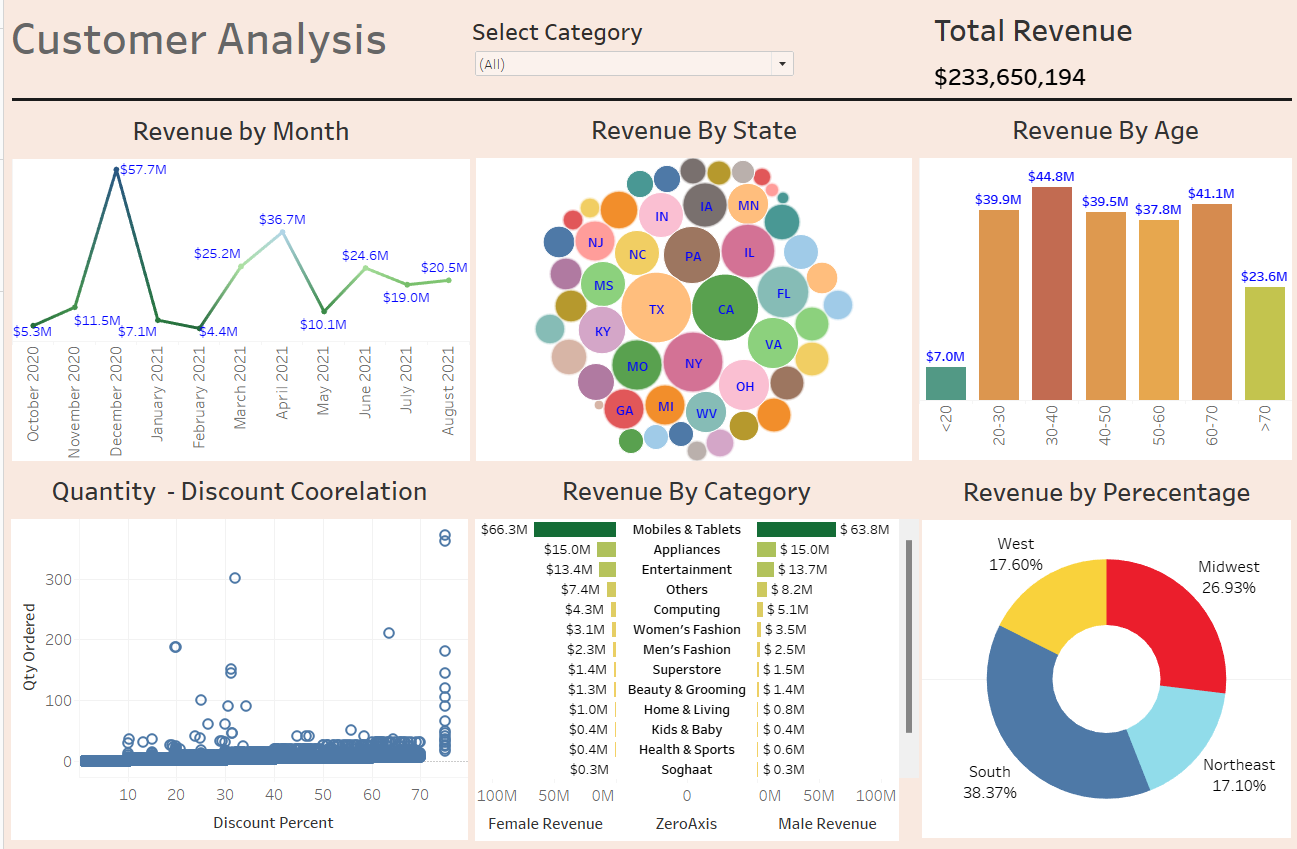

The page's visual inventory and layout, read from the dashboard file:
{"tool":"tableau","page":{"name":"Dashboard 1","canvas":[1300,900],"ordinal":0},"visuals":[{"type":"worksheet","title":"Total Revenue","mark":"Automatic","box":[926,5,266,90]},{"type":"text","box":[3,8,411,60]},{"type":"filter","title":"Revenue By Category","param":"[federated.1mt8xgd12s39361gu934x0xnmukh].[none:category:nk]","box":[468,16,325,64]},{"type":"blank","box":[8,99,1280,3]},{"type":"worksheet","title":"Revenue By State","mark":"Circle","box":[472,109,436,353]},{"type":"worksheet","title":"Revenue By Age","mark":"Automatic","rows":["total"],"cols":["Age (bin)"],"box":[915,109,373,352]},{"type":"worksheet","title":"Revenue by Month","mark":"Automatic","rows":["total"],"cols":["month"],"box":[8,110,458,352]},{"type":"worksheet","title":"Quantity  - Discount Coorelation","mark":"Automatic","rows":["qty_ordered"],"cols":["Discount_Percent"],"box":[7,470,457,371]},{"type":"worksheet","title":"Revenue By Category","mark":"Automatic","rows":["category"],"cols":["Calculation_1661828305563856897","Calculation_1661828305547468800","Calculation_1661828305564217346"],"box":[471,470,444,372]},{"type":"worksheet","title":"Revenue by Perecentage","mark":"Pie","rows":["Calculation_1661828305547468800","Calculation_1661828305547468800"],"box":[918,471,369,368]}]}

Visuals, with their boxes on the page's 1300x900 design canvas (x1, y1, x2, y2). These are canvas units, not pixel positions in the 1297x849 screenshot, which may show the page scaled, cropped or inside an application window:
"Total Revenue" worksheet: 926, 5, 1192, 95
text: 3, 8, 414, 68
"Revenue By Category" filter: 468, 16, 793, 80
blank: 8, 99, 1288, 102
"Revenue By State" worksheet (Circle marks): 472, 109, 908, 462
"Revenue By Age" worksheet: 915, 109, 1288, 461
"Revenue by Month" worksheet: 8, 110, 466, 462
"Quantity  - Discount Coorelation" worksheet: 7, 470, 464, 841
"Revenue By Category" worksheet: 471, 470, 915, 842
"Revenue by Perecentage" worksheet (Pie marks): 918, 471, 1287, 839
